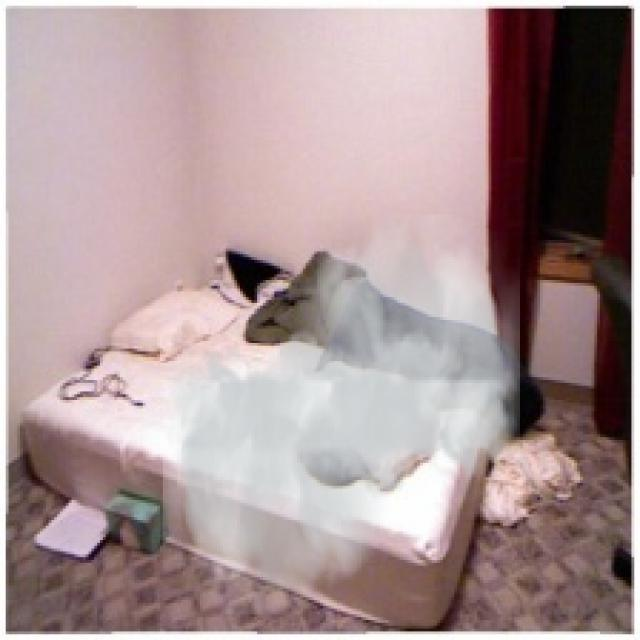Smoke: (163, 215, 520, 614)
